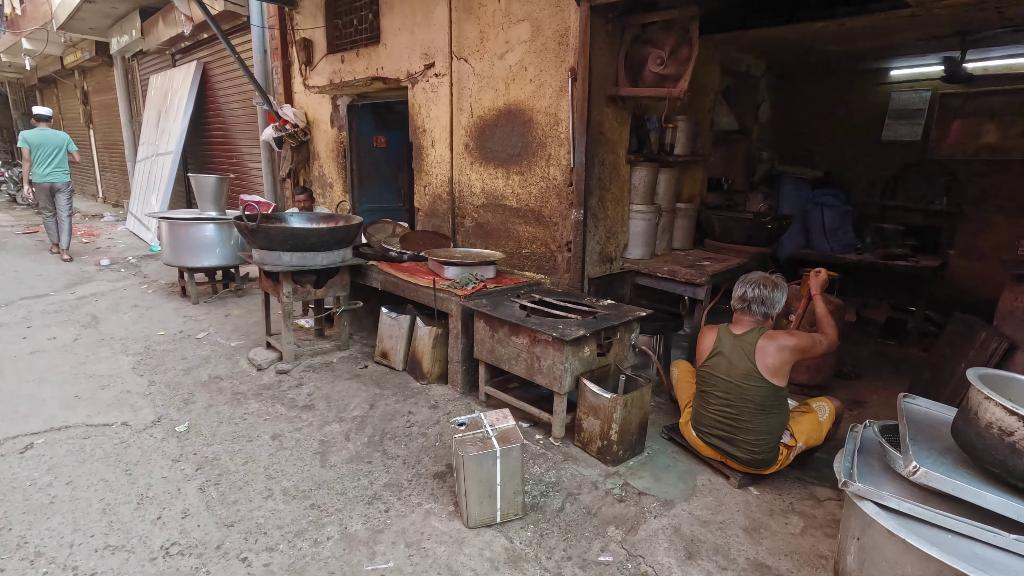garbage: (73, 220, 103, 245), (15, 221, 43, 242)
